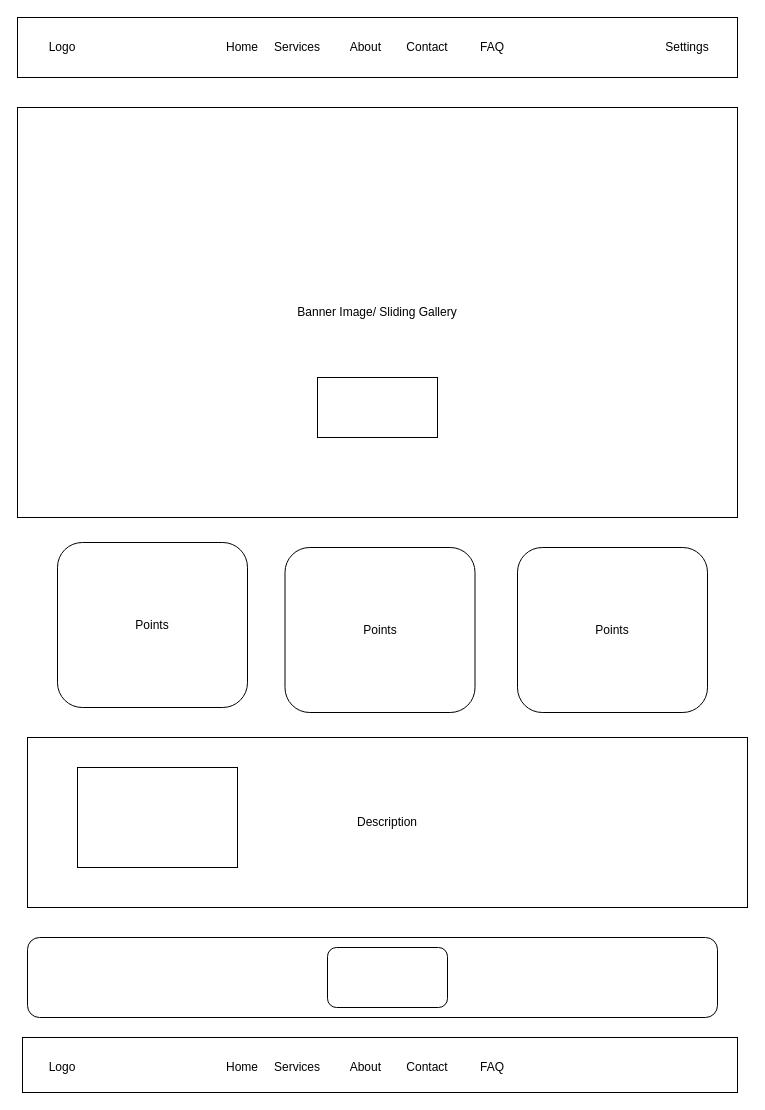
The diagram is 765 pixels wide and 1110 high, and some of its shapes have lost their labels. The shapes that lost their labels are listed below. From the top down, each one's centre as x and y in pixels, then its label:
At [377,407]: "Sign up Button".
At [157,817]: "Side Thing".
At [387,977]: "Sign Up".
